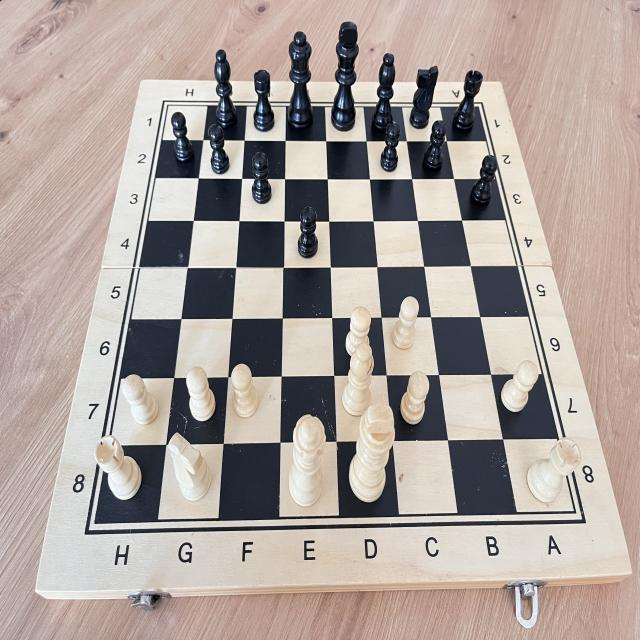black-bishop: (369, 49, 401, 136), (212, 43, 242, 134)
black-king: (329, 15, 363, 133)
black-knight: (406, 61, 441, 130)
black-pawn: (416, 115, 452, 180), (466, 149, 500, 210), (247, 147, 277, 211), (295, 199, 320, 263), (170, 110, 198, 164), (206, 119, 232, 177), (377, 118, 400, 173)
black-queen: (282, 29, 320, 133)
black-rook: (448, 67, 483, 136), (251, 65, 280, 137)
white-bishop: (338, 338, 385, 419)
white-king: (346, 399, 401, 507)
white-knight: (165, 430, 215, 509)
white-pawn: (388, 290, 429, 357), (500, 358, 540, 415), (121, 374, 164, 427), (398, 366, 430, 430), (186, 366, 222, 422), (228, 363, 262, 421), (343, 305, 374, 361)
white-queen: (280, 410, 334, 512)
white-rook: (524, 429, 584, 506), (92, 429, 147, 502)
